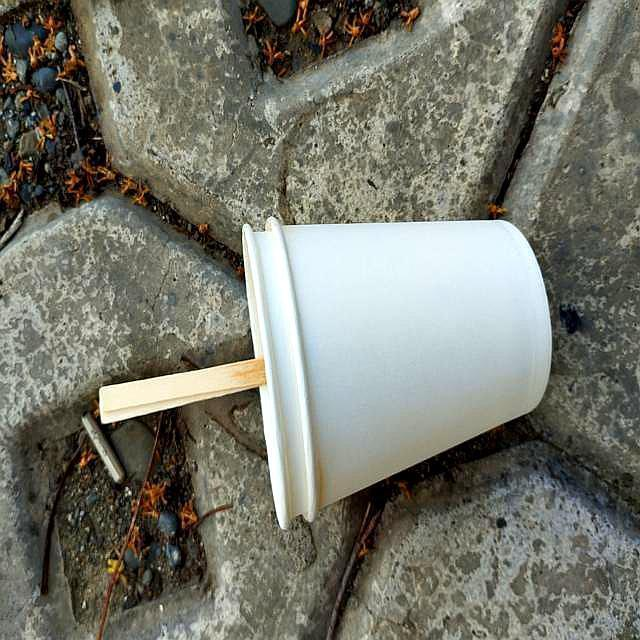Biodegradable: (239, 213, 555, 521)
